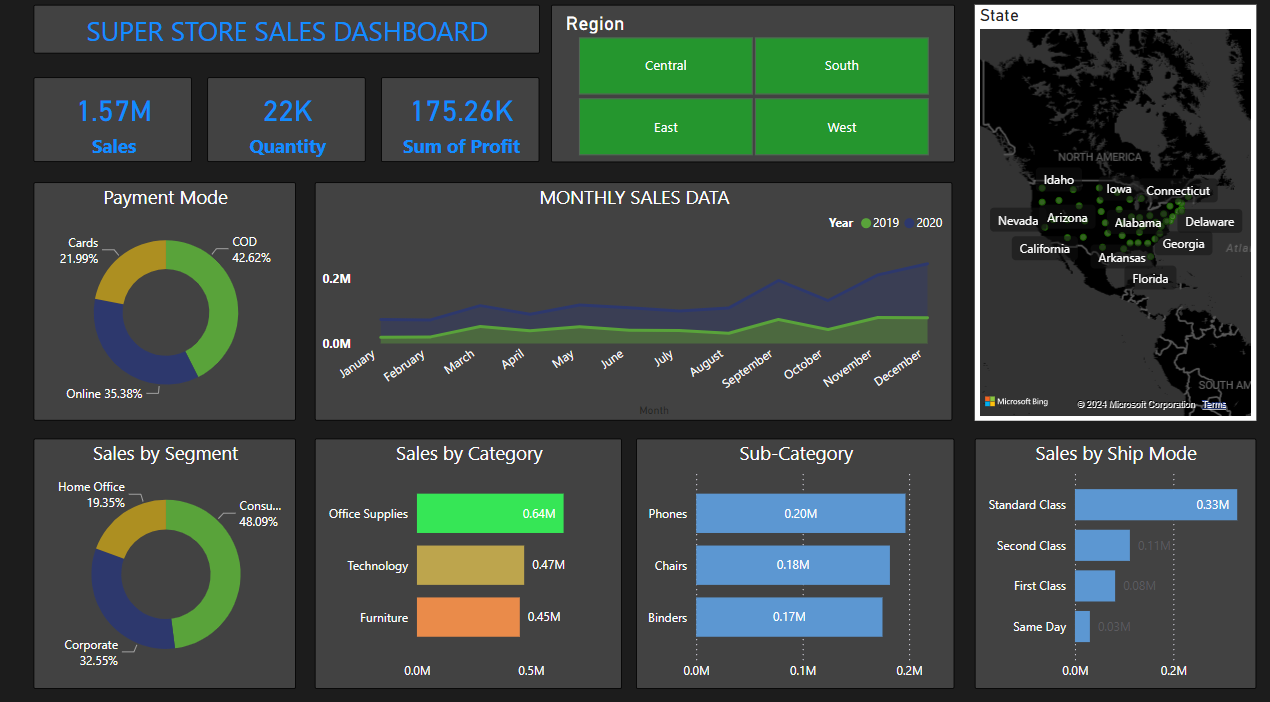

The page's visual inventory and layout, read from the dashboard file:
{"tool":"powerbi","page":{"name":"Page 1","canvas":[1280,720],"ordinal":0},"visuals":[{"type":"clusteredBarChart","title":"Sales by Category","fields":{"Category":["Sheet1.Category"],"Y":["Sum(Sheet1.Sales)"]},"box":[318.8,442.5,307.5,250],"z":0},{"type":"clusteredBarChart","title":"Sub-Category","fields":{"Category":["Sheet1.Sub-Category"],"Y":["Sum(Sheet1.Sales)"]},"box":[640,442.5,318.8,250],"z":1000},{"type":"clusteredBarChart","title":" Sales by Ship Mode","fields":{"Category":["Sheet1.Ship Mode"],"Y":["Sum(Sheet1.Sales)"]},"box":[978.8,442.5,281.2,250],"z":2000},{"type":"stackedAreaChart","title":"MONTHLY SALES DATA","fields":{"Category":["Sheet1.Order Date.Variation.Date Hierarchy.Month"],"Y":["Sum(Sheet1.Sales)"],"Series":["Sheet1.Order Date.Variation.Date Hierarchy.Year"]},"box":[318.8,186.2,637.5,238.8],"z":3000},{"type":"map","fields":{"Category":["SuperStore_Sales_Dataset.State"]},"box":[978.8,8.8,281.2,416.2],"z":4000},{"type":"donutChart","title":" Sales by Segment","fields":{"Y":["Sum(SuperStore_Sales_Dataset.Sales)"],"Category":["SuperStore_Sales_Dataset.Segment"]},"box":[37.5,442.5,262.5,250],"z":5000},{"type":"donutChart","title":"Payment Mode","fields":{"Y":["Sum(SuperStore_Sales_Dataset.Sales)"],"Category":["SuperStore_Sales_Dataset.Payment Mode"]},"box":[37.5,186.2,262.5,238.8],"z":6000},{"type":"slicer","fields":{"Values":["SuperStore_Sales_Dataset.Region"]},"box":[555,8.8,403.8,157.5],"z":7000},{"type":"textbox","box":[37.5,8.8,506.2,48.8],"z":8000},{"type":"card","fields":{"Values":["Sum(SuperStore_Sales_Dataset.Sales)"]},"box":[37.5,81.2,158.8,85],"z":9000},{"type":"card","fields":{"Values":["Sum(SuperStore_Sales_Dataset.Quantity)"]},"box":[211.2,81.2,158.8,85],"z":10000},{"type":"card","fields":{"Values":["Sum(SuperStore_Sales_Dataset.Profit)"]},"box":[385,81.2,158.8,85],"z":11000}]}

Visuals, with their boxes in screenshot pixels (x1, y1, x2, y2), scaled from the page's 1280x720 canvas onto the 1270x702 screenshot:
"Sales by Category" clusteredBarChart: box(316, 431, 621, 675)
"Sub-Category" clusteredBarChart: box(635, 431, 951, 675)
" Sales by Ship Mode" clusteredBarChart: box(971, 431, 1250, 675)
"MONTHLY SALES DATA" stackedAreaChart: box(316, 182, 949, 414)
map - SuperStore_Sales_Dataset.State: box(971, 9, 1250, 414)
" Sales by Segment" donutChart: box(37, 431, 298, 675)
"Payment Mode" donutChart: box(37, 182, 298, 414)
slicer - SuperStore_Sales_Dataset.Region: box(551, 9, 951, 162)
textbox: box(37, 9, 539, 56)
card - Sum(SuperStore_Sales_Dataset.Sales): box(37, 79, 195, 162)
card - Sum(SuperStore_Sales_Dataset.Quantity): box(210, 79, 367, 162)
card - Sum(SuperStore_Sales_Dataset.Profit): box(382, 79, 540, 162)
